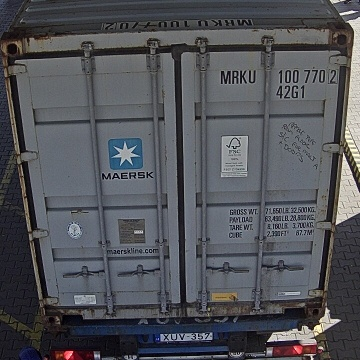serial_id: (221, 68, 338, 83)
